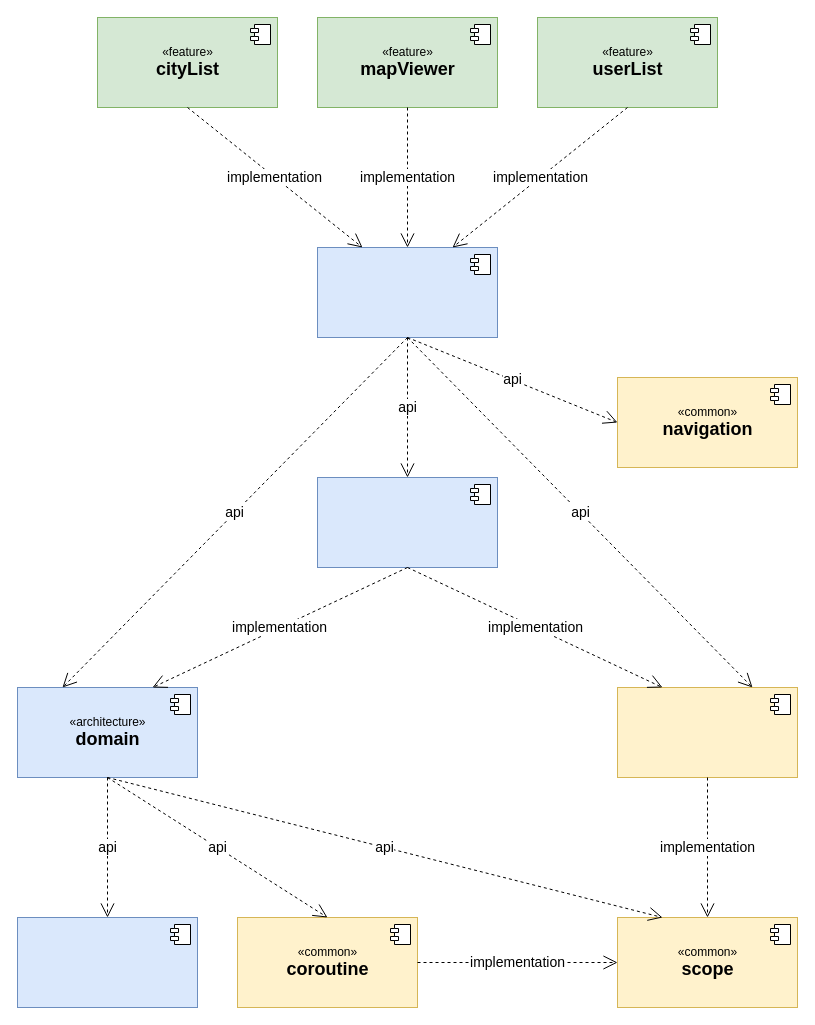
Image size: 815x1025. Some labels were removed from this diagram. Here are the shapes that lost their labels. From the top down, the centre of each, then its label:
At (407,292): "«architecture» app".
At (407,522): "«architecture» data".
At (707,732): "«common» appCore".
At (107,962): "«architecture» model".
